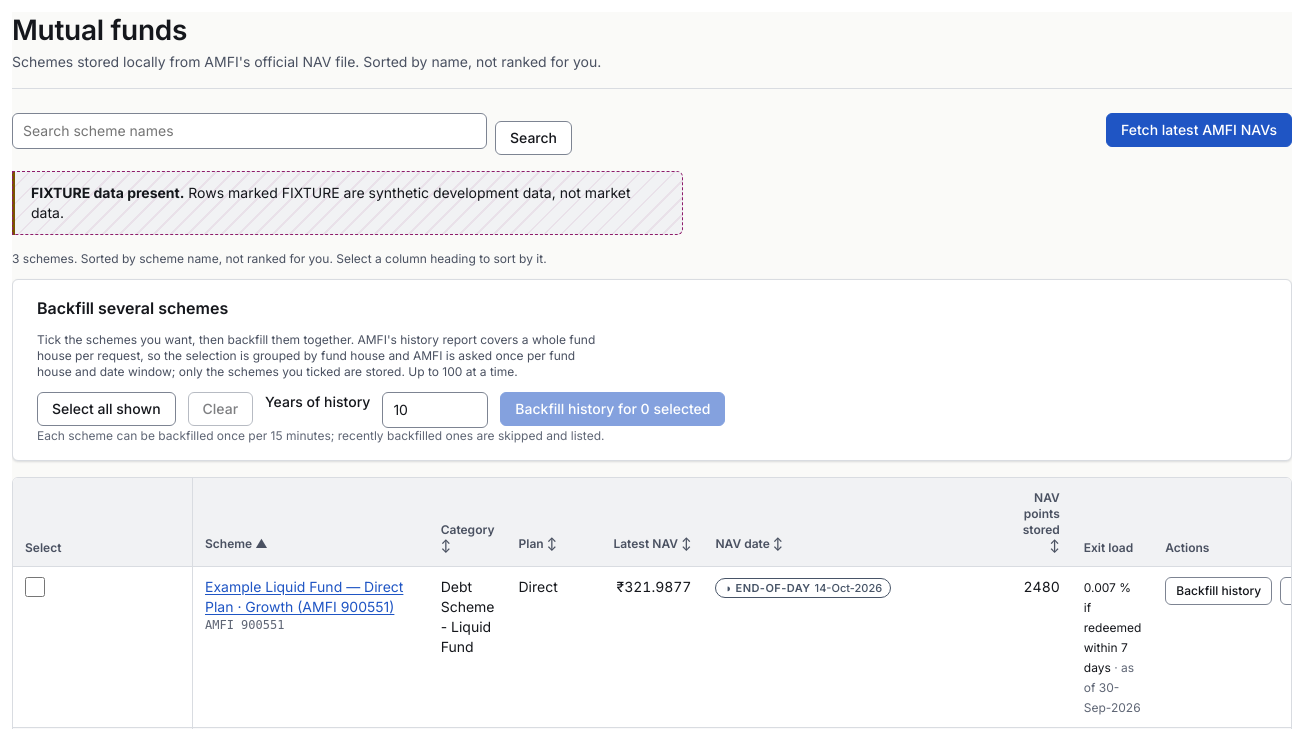
Test: MfExplorer › reports a non-ok backfill plainly
Step 1. Click the button with aria-label "Backfill history for Example Liquid" → {"x": 1219, "y": 591}, box [1165, 577, 1272, 605]
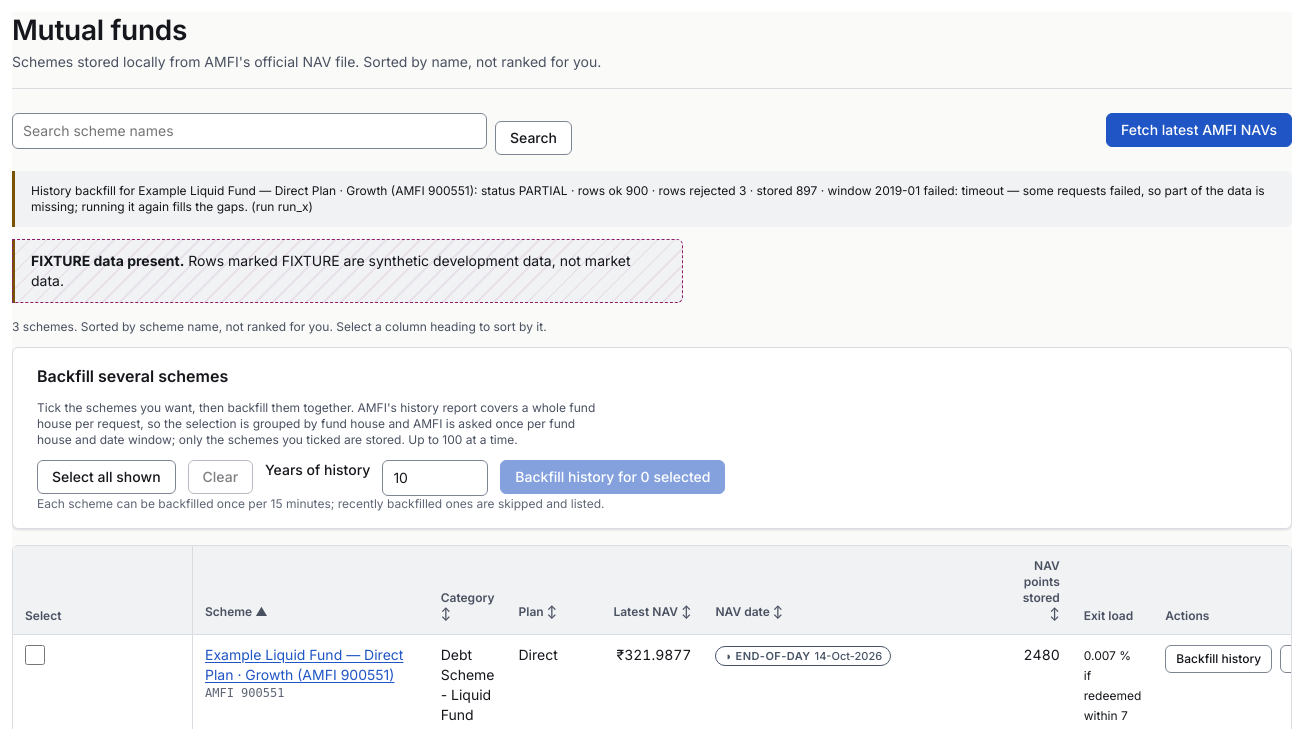
Now the list item "status PARTIAL" shows "rows ok 900 · rows rejected 3 · stored 897 · window 2019-01 failed: timeout", box [31, 183, 1265, 214]
Now the list item "status PARTIAL" shows "some requests failed, so part of the data is missing; running it again fills the gaps", box [31, 183, 1265, 214]
